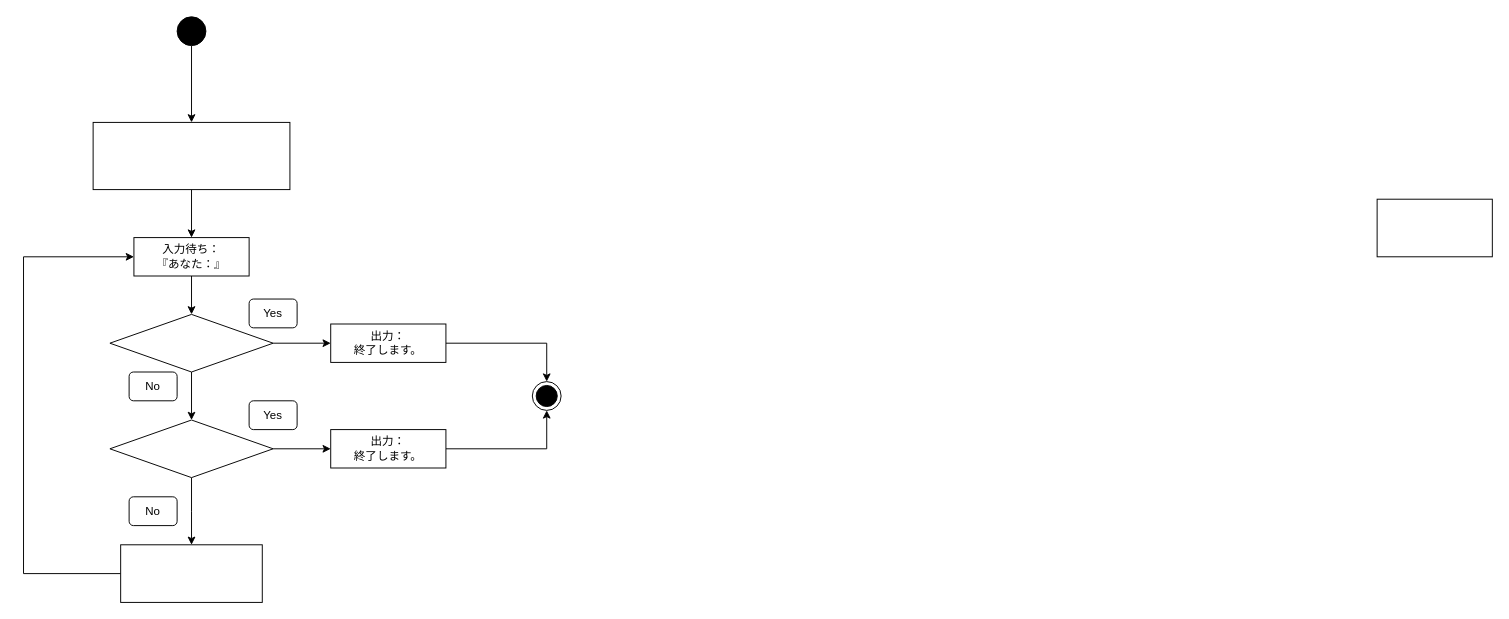
This 1509x619 diagram has some shape labels left out. The centre of each missing label's shape, as x and y in pixels:
"EOFError, KeyboardInterrupt" goes at point 191,342.
"入力が 'exit' または 'quit'" goes at point 191,448.
"入力内容と似たQandA を探して、それを 使って回答生成、出力" goes at point 191,573.
"出力： チャットボットへようこそ。 終了するには 'exit' または 'quit' を 入力してください。" goes at point 191,155.
